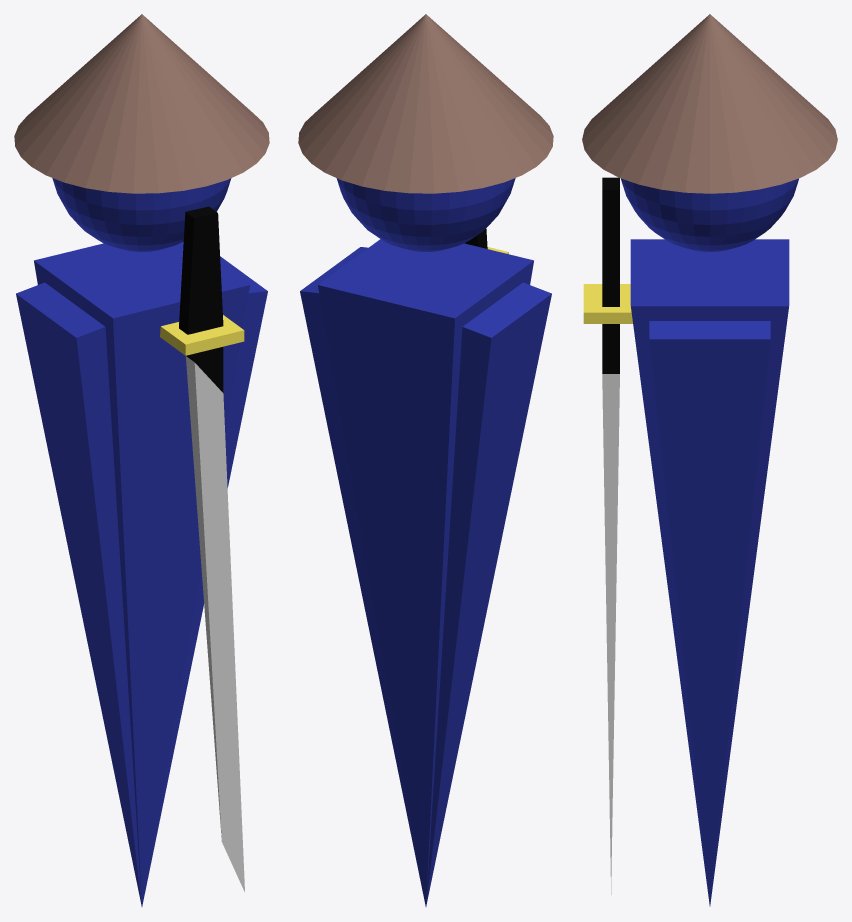
The model's file is hunter.gltf.
The picture shows the model from 3 angles, left to right: view 1: azimuth 30°, elevation 25°; view 2: azimuth 150°, elevation 25°; view 3: azimuth 270°, elevation 25°; orthographic projection.
Visible parts, largest first — view 1: hunter, sword; view 2: hunter; view 3: hunter, sword.
Part boxes in pixels (x1,y1,x2,y2): hunter: [14, 14, 269, 906]; sword: [160, 206, 244, 891]; hunter: [298, 14, 553, 906]; hunter: [582, 14, 837, 906]; sword: [583, 177, 632, 894].
Size of the model in its own units: 0.4395 by 1.69 by 0.4395.
Materials: 2 (2 with a texture image).
